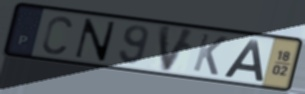9: (116, 24, 151, 66)
A: (220, 38, 265, 82)
C: (40, 14, 75, 56)
K: (191, 32, 230, 78)
N: (72, 17, 119, 63)
V: (157, 23, 199, 75)
